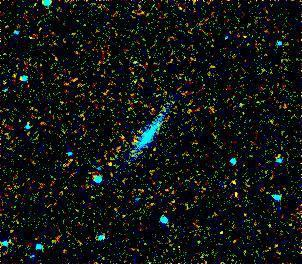star: (93, 147, 123, 177)
